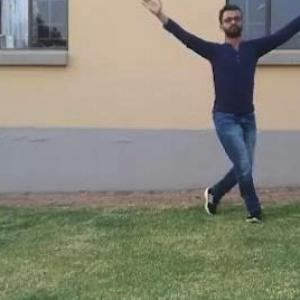takeoff: (152, 4, 299, 191)
